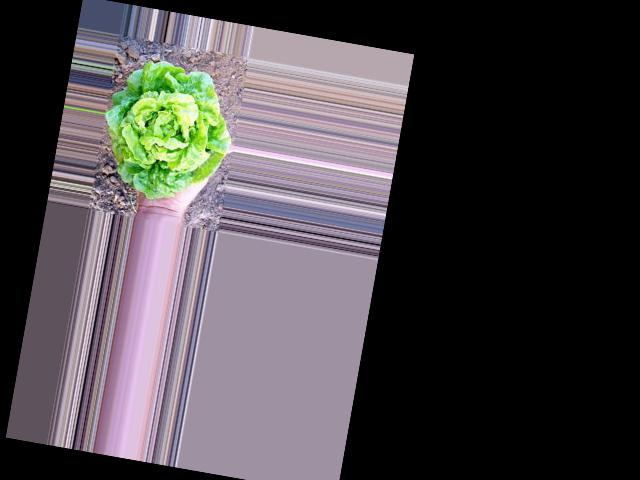lettuce: (67, 96, 216, 203)
